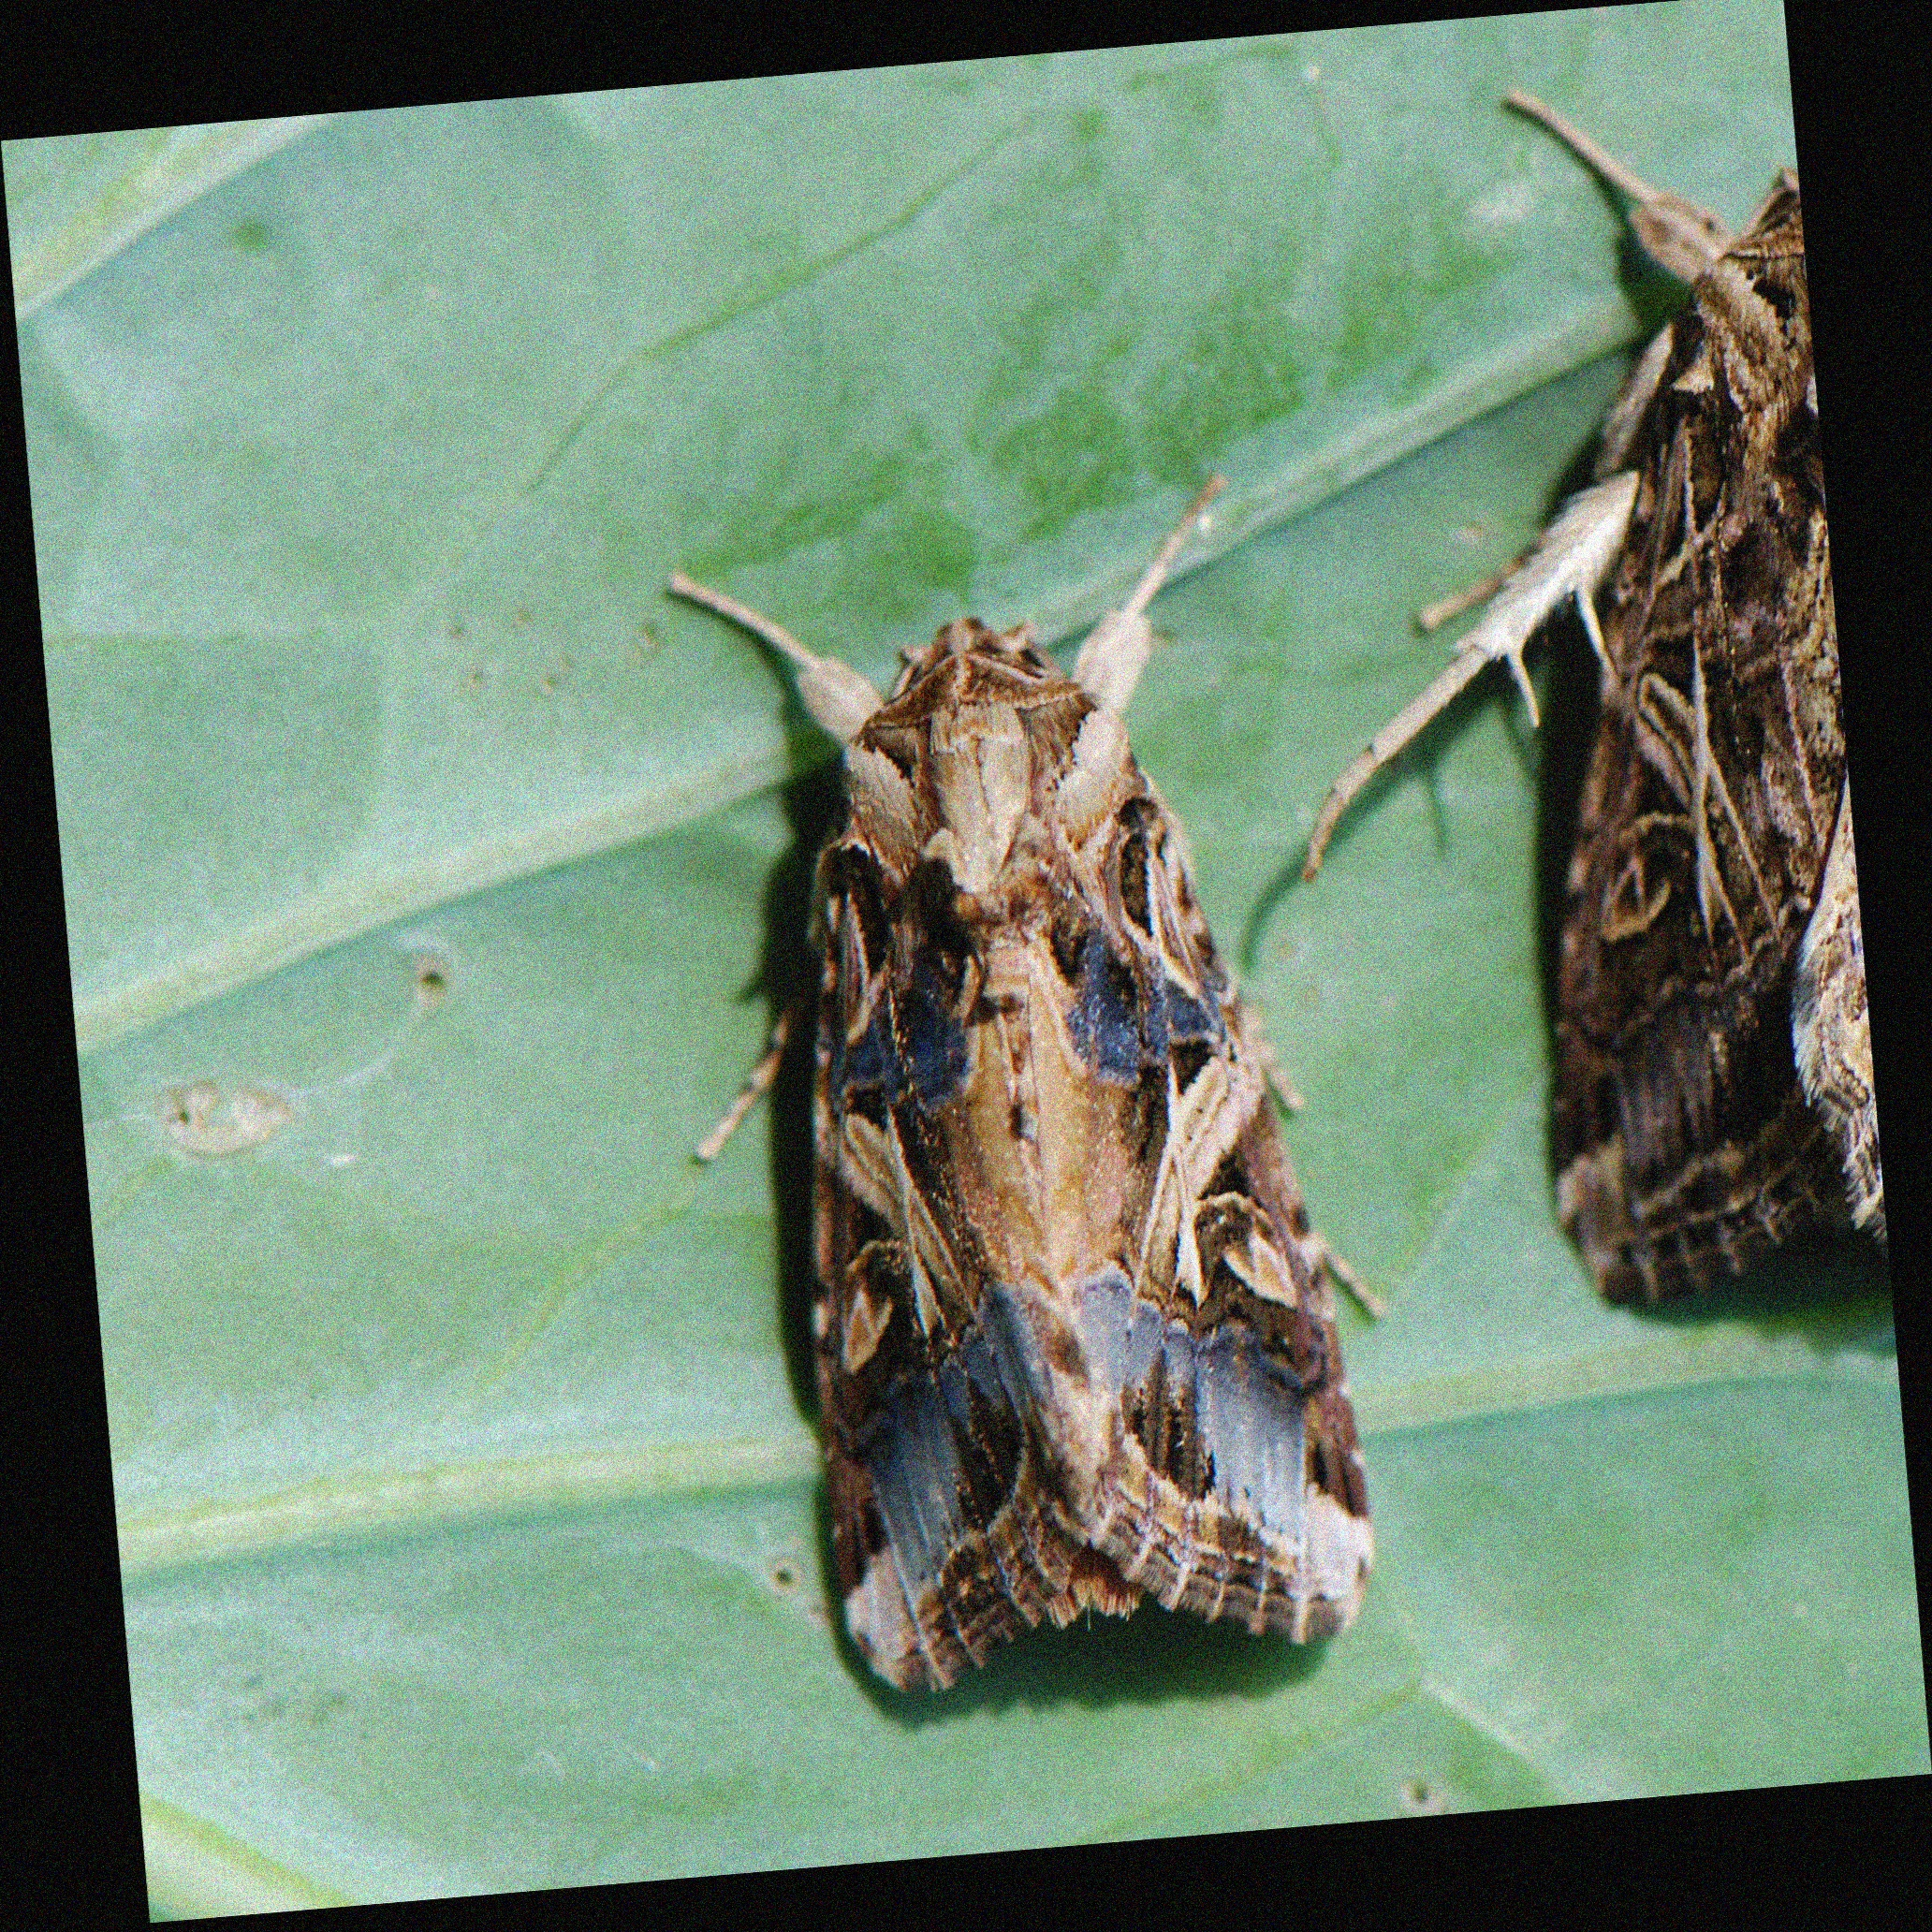Spodoptera litura: (690, 492, 1364, 1684), (1290, 87, 1838, 1315)
